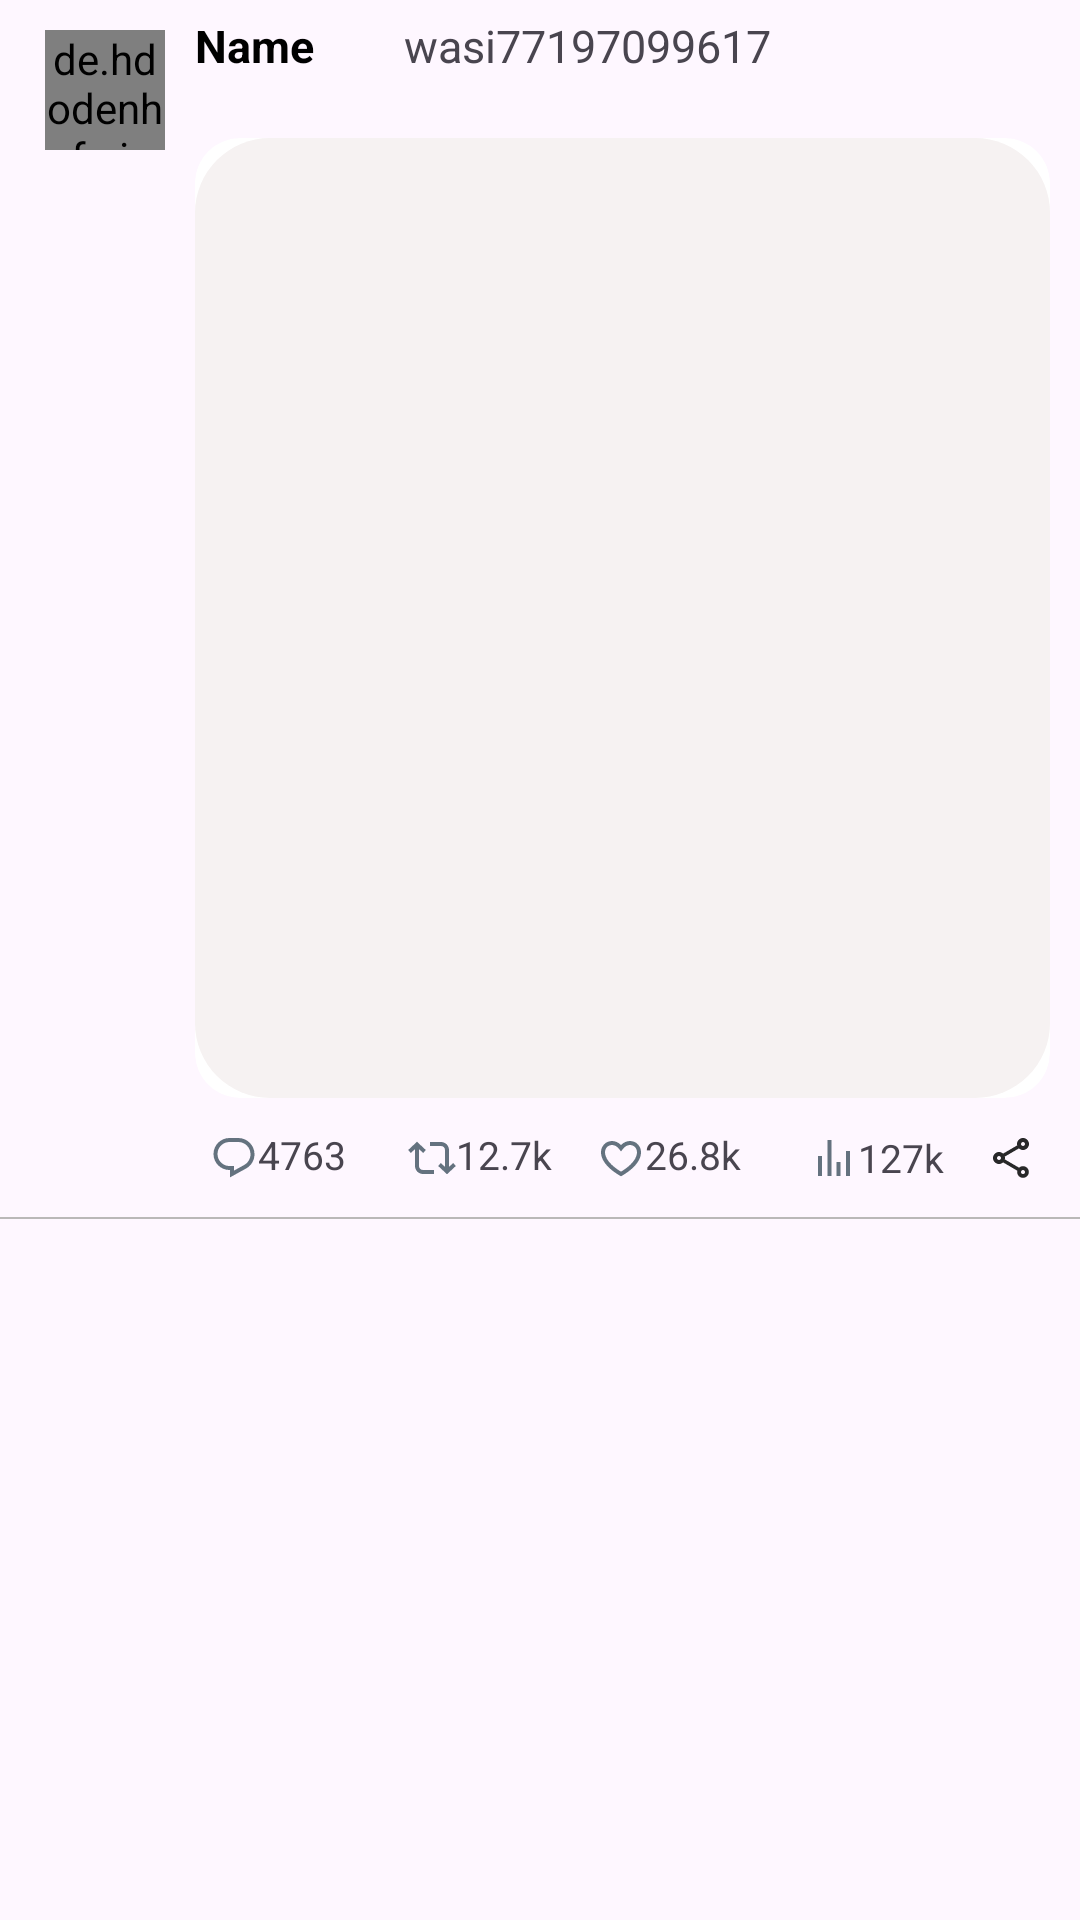

Where to tap for icons on this 1080px x 1920px app screen, as point (x, y):
comment: point (234, 1157)
like: point (621, 1158)
retweet: point (432, 1158)
share: point (1011, 1158)
view tweet: point (834, 1158)
